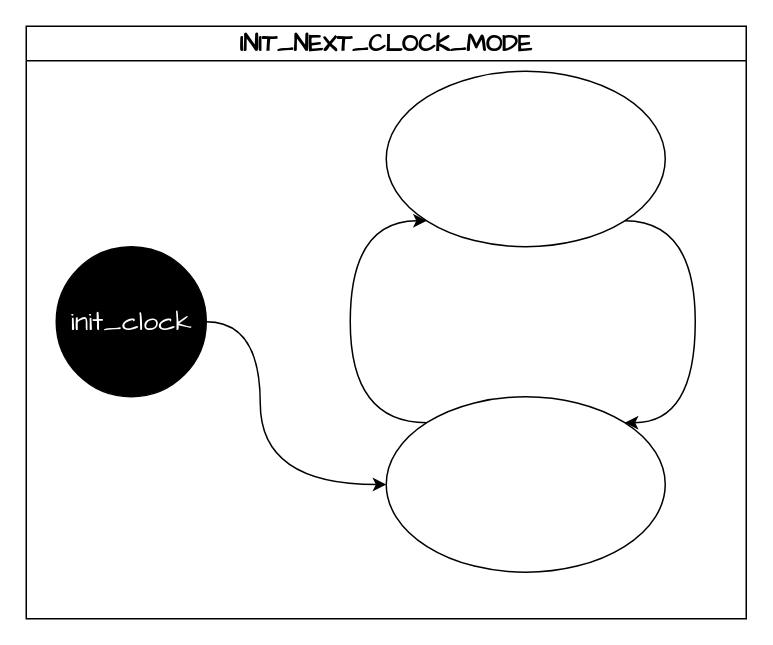
This 773x645 diagram has some shape labels left out. Here are the shapes that lost their labels. From the top down, the box of each, then its label:
(385, 70, 665, 247): init_set_mode
(385, 395, 665, 572): init_ticking_mode
